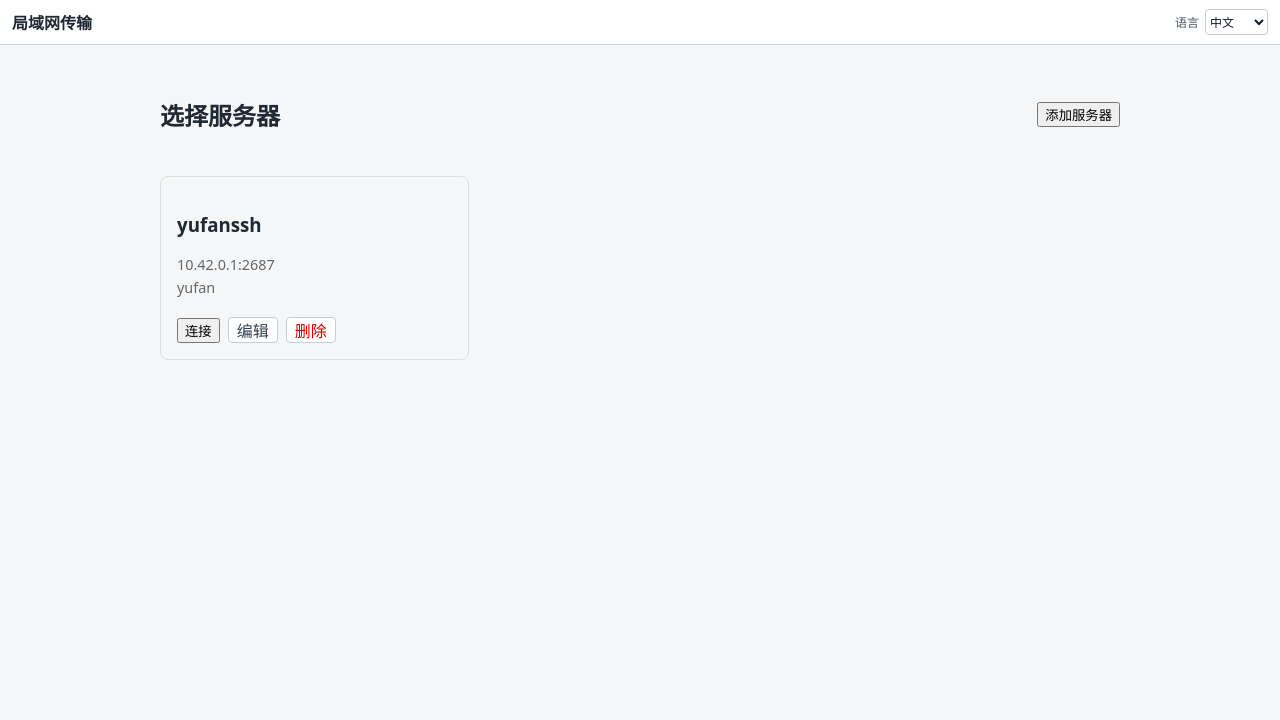
Test case: remote shell after SSH login › enters the remote file shell after submitting SSH credentials
Expected: the heading "yufanssh" is shown, [177,212,262,236]
Click the button "连接" at (198,330), box [177,318,220,343]
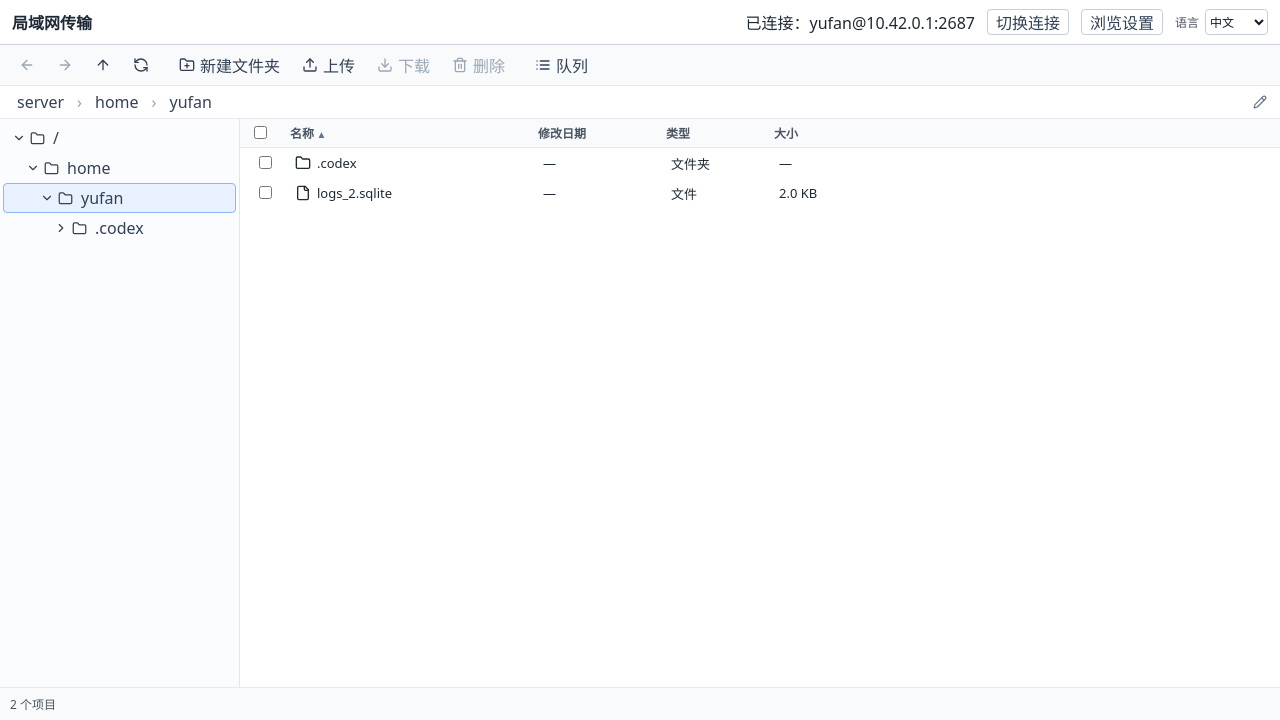
Now the text "已连接：yufan@10.42.0.1:2687" is shown, box [746,10,975,34]
Now the list item "/" is shown, box [3,123,236,153]
Now the list item "home" is shown, box [3,153,236,183]
